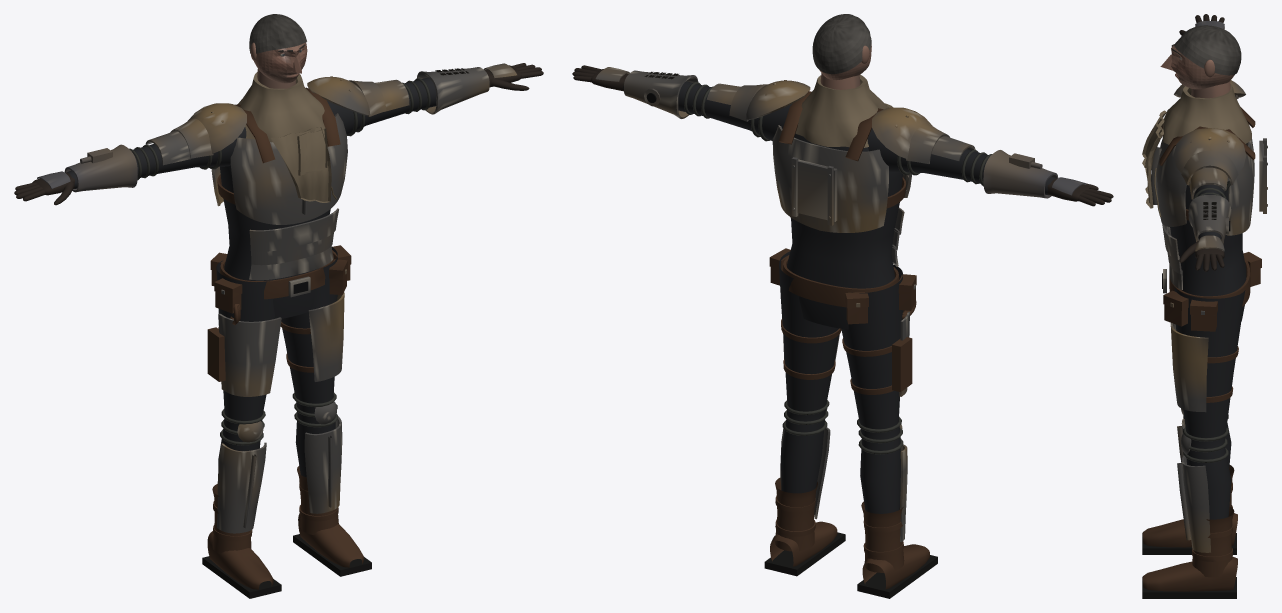
Rendered from hunter_unhelmeted.glb.
The picture shows the model from 3 angles, left to right: view 1: azimuth 30°, elevation 25°; view 2: azimuth 150°, elevation 25°; view 3: azimuth 270°, elevation 25°; orthographic projection. The views are drawn at different scales.
Visible parts, largest first — view 1: hunter_unhelmeted_mesh; view 2: hunter_unhelmeted_mesh; view 3: hunter_unhelmeted_mesh.
Boxes of the visible parts, x1,y1,x2,y2 form: hunter_unhelmeted_mesh: (14,14,543,598); hunter_unhelmeted_mesh: (572,14,1113,598); hunter_unhelmeted_mesh: (1142,14,1267,598).
Bounding box in the file's own units: 1.86 × 1.83 × 0.3861.
